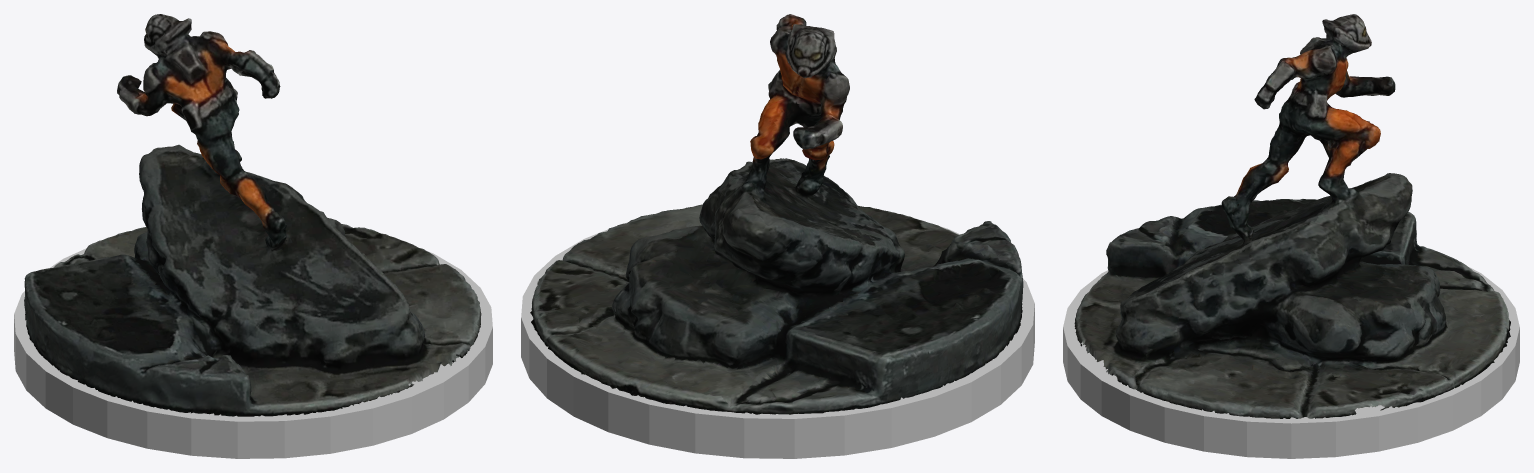
File: transform.glb
The picture shows the model from 3 angles, left to right: view 1: azimuth 30°, elevation 25°; view 2: azimuth 150°, elevation 25°; view 3: azimuth 270°, elevation 25°; orthographic projection. The views are drawn at different scales.
Parts seen in each view (by area): view 1: AntManLittle, default; view 2: AntManLittle, default; view 3: AntManLittle, default.
Boxes of the visible parts, <box> form: AntManLittle: <box>24,14,481,416</box>; default: <box>14,248,492,458</box>; AntManLittle: <box>530,14,1023,414</box>; default: <box>521,222,1034,458</box>; AntManLittle: <box>1074,14,1510,418</box>; default: <box>1063,266,1519,458</box>.
Size of the model in its own units: 1.38 by 1.06 by 1.38.
Materials: 2 (1 with a texture image).
